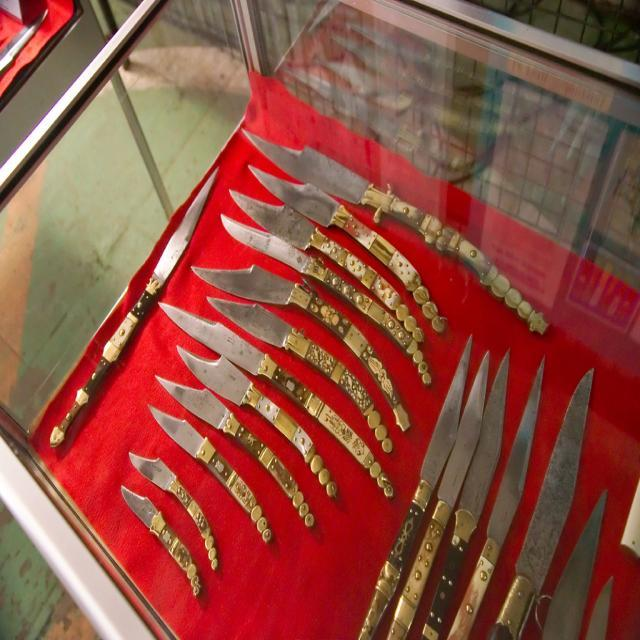Knife: (246, 133, 549, 333), (50, 170, 217, 447), (160, 304, 392, 497), (192, 265, 410, 429), (221, 217, 430, 383), (359, 338, 471, 640), (251, 168, 446, 331), (388, 352, 489, 640), (209, 298, 392, 452), (448, 360, 543, 639), (496, 369, 592, 640), (422, 352, 508, 640), (178, 348, 336, 497), (158, 378, 314, 526), (231, 192, 402, 311), (152, 408, 272, 542), (129, 452, 219, 569), (544, 492, 606, 640), (121, 486, 201, 596), (585, 578, 613, 640)
